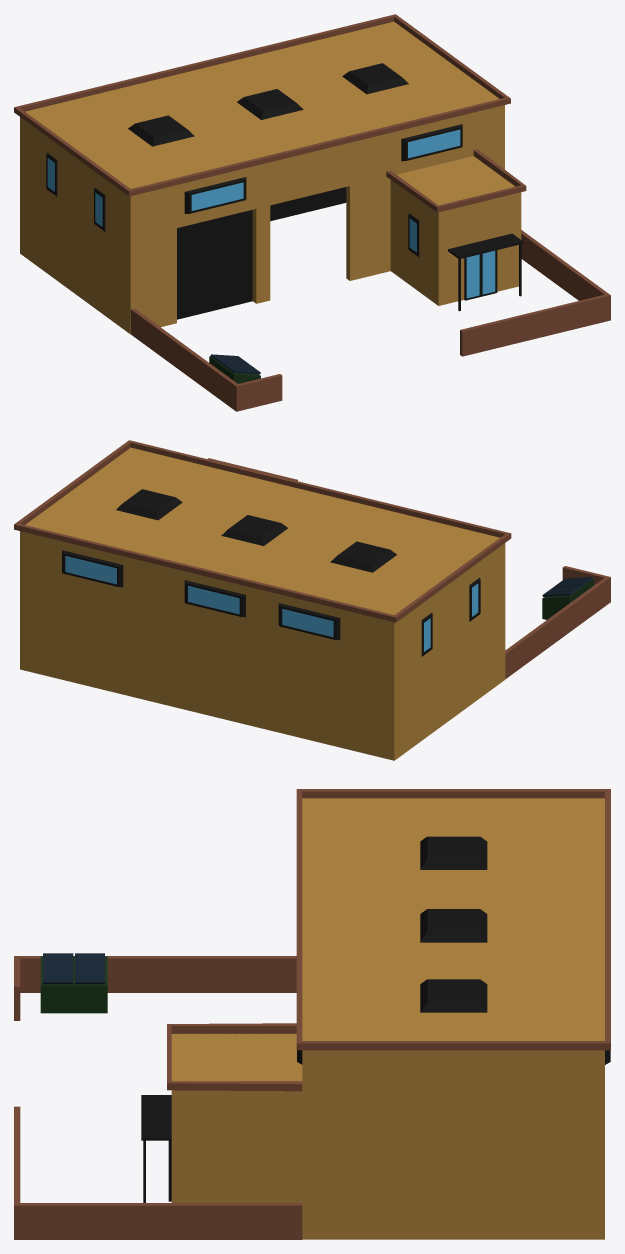
The picture shows the model from 3 angles, top to bottom: view 1: azimuth 30°, elevation 25°; view 2: azimuth 150°, elevation 25°; view 3: azimuth 270°, elevation 25°; orthographic projection. The views are drawn at different scales.
Visible parts, largest first — view 1: SER_T2_16_PERRONE_01.001; view 2: SER_T2_16_PERRONE_01.001; view 3: SER_T2_16_PERRONE_01.001.
Part boxes in pixels (x1,y1,x2,y2): SER_T2_16_PERRONE_01.001: [14, 14, 610, 411]; SER_T2_16_PERRONE_01.001: [14, 440, 610, 760]; SER_T2_16_PERRONE_01.001: [14, 789, 610, 1239].
Bounding box in the file's own units: 39.77 × 14.58 × 39.45.
